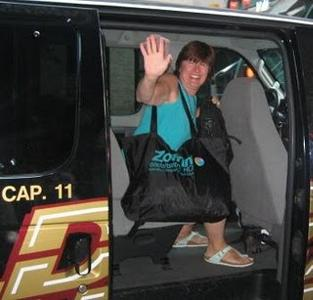person: (135, 35, 256, 268)
